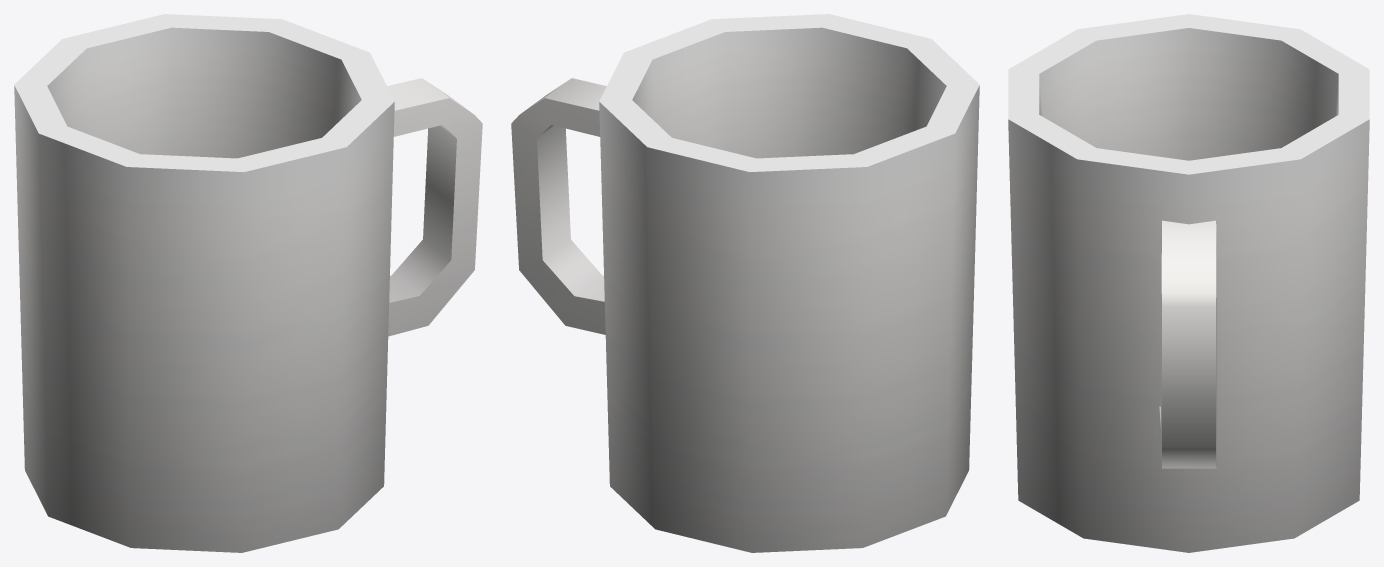
The model's file is Mug.fbx.
The picture shows the model from 3 angles, left to right: view 1: azimuth 30°, elevation 25°; view 2: azimuth 150°, elevation 25°; view 3: azimuth 270°, elevation 25°; orthographic projection.
Visible parts, largest first — view 1: Mug; view 2: Mug; view 3: Mug.
Boxes of the visible parts, x1,y1,x2,y2 form: Mug: (14,14,482,552); Mug: (511,14,979,552); Mug: (1008,14,1369,552).
Size of the model in its own units: 16.27 by 14.01 by 11.91.
